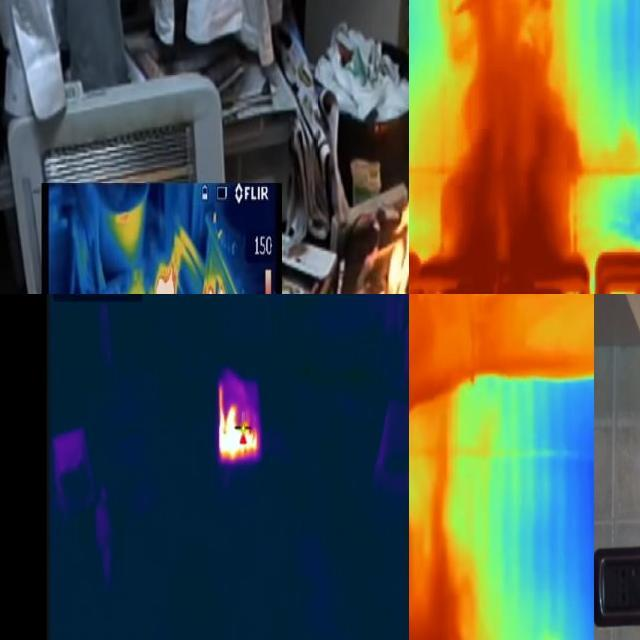fire: (425, 107, 578, 295), (218, 373, 261, 467), (148, 264, 182, 299)
